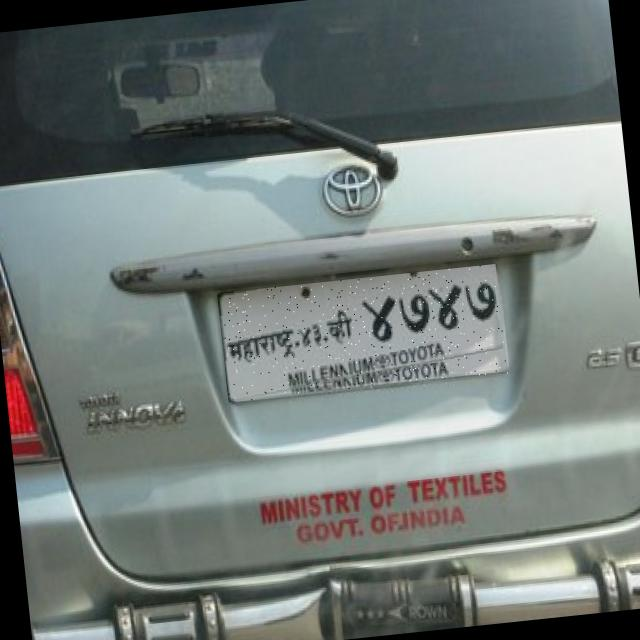Plate: (218, 264, 509, 403)
